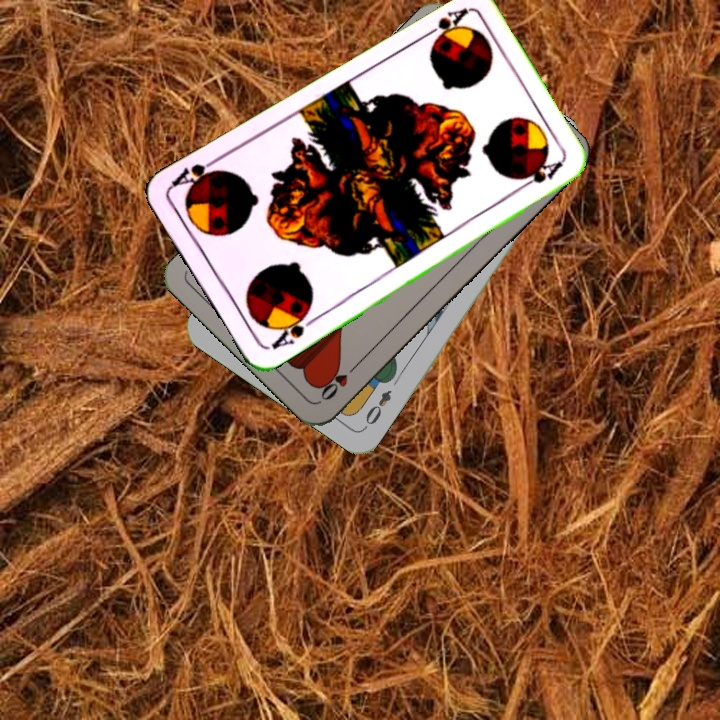EO: (360, 385, 394, 432)
HO: (316, 358, 362, 403)
SA: (267, 306, 318, 352), (416, 3, 471, 44)
